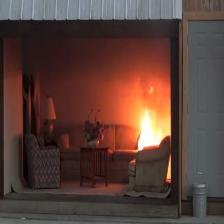fire: (138, 107, 162, 146)
